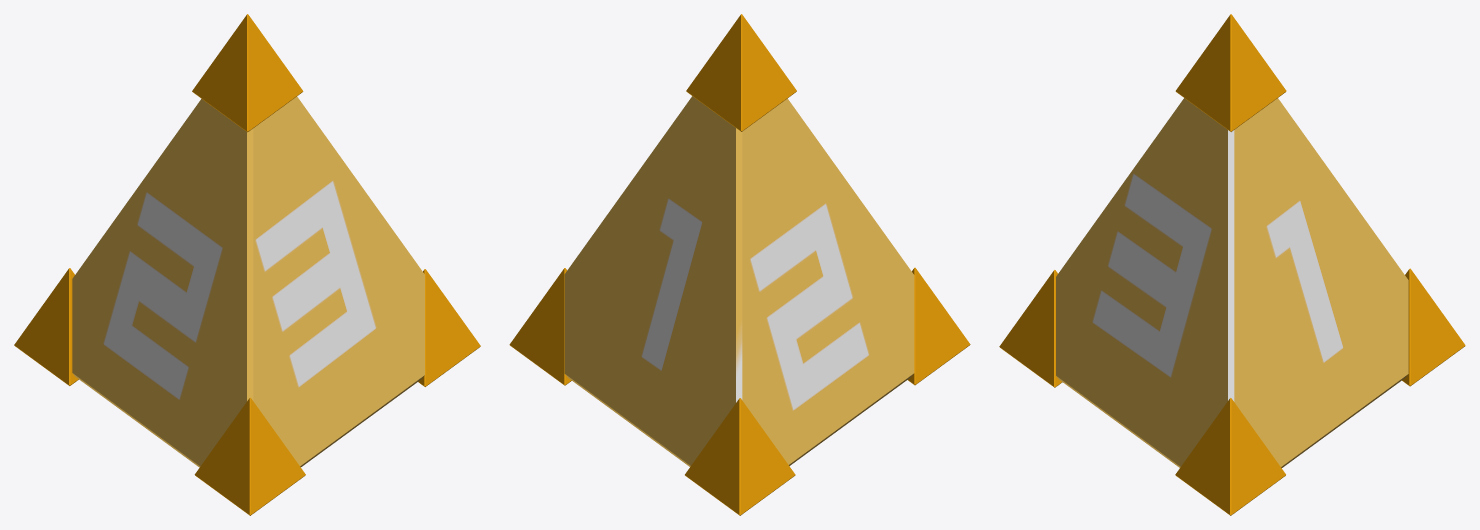
Rendered from MEC0110034.fbx.
3 renders of one model, left to right at view 1: azimuth 30°, elevation 25°; view 2: azimuth 150°, elevation 25°; view 3: azimuth 270°, elevation 25°, orthographic.
Visible parts, largest first — view 1: smMEC0110034; view 2: smMEC0110034; view 3: smMEC0110034.
Boxes of the visible parts, box(x1,y1,x2,y2) form: smMEC0110034: box(14, 14, 480, 515); smMEC0110034: box(509, 14, 970, 515); smMEC0110034: box(999, 14, 1465, 515).
Bounding box in the file's own units: 99.17 × 106 × 115.
Materials: 1 (1 with a texture image).
